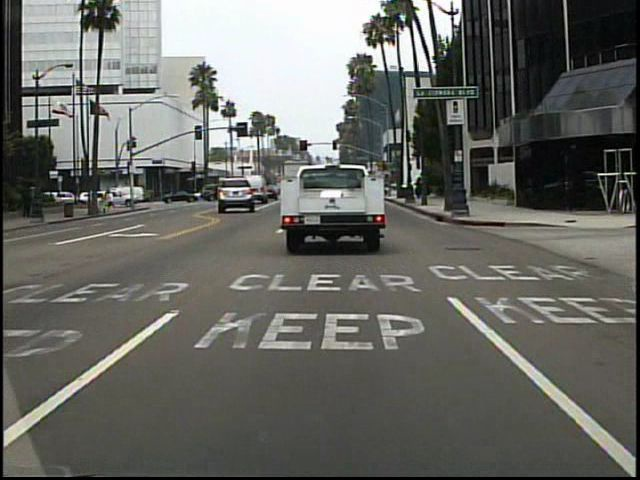person: (106, 188, 119, 216)
